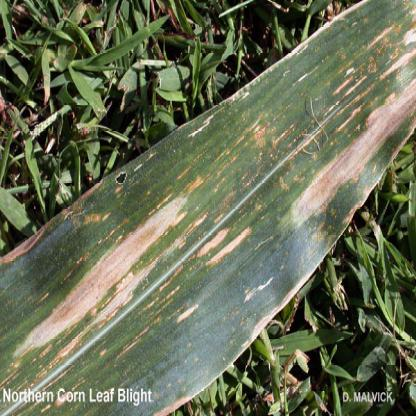corn leaf blight: (7, 10, 413, 380)
